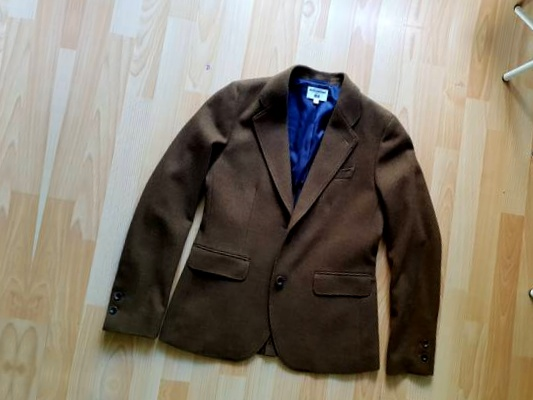Blazer: (122, 55, 483, 393)
